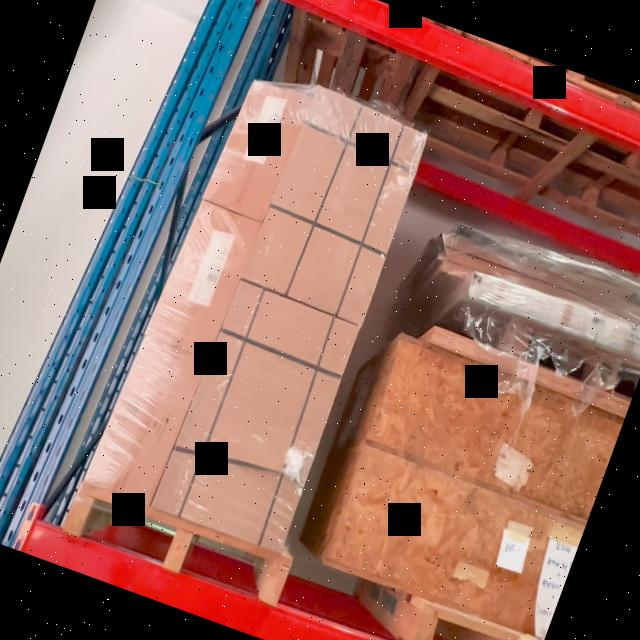box: (162, 282, 360, 548), (251, 92, 428, 323), (94, 343, 200, 501), (153, 206, 255, 358), (209, 81, 306, 224)
